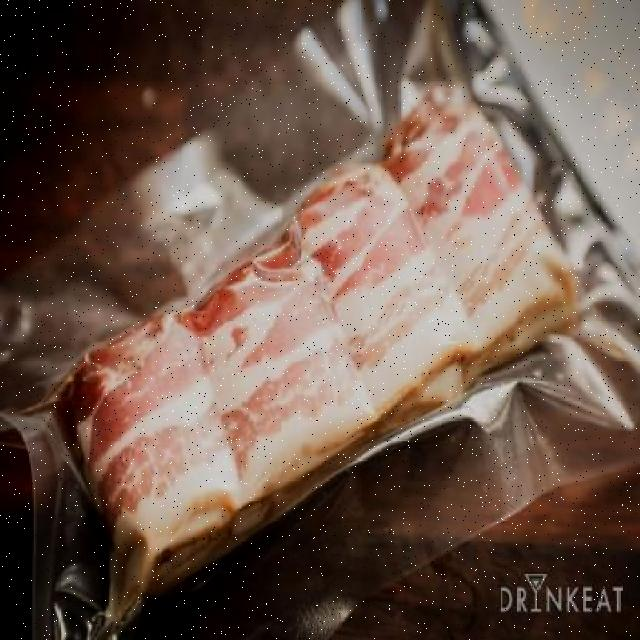Bacon: (16, 88, 610, 549)
